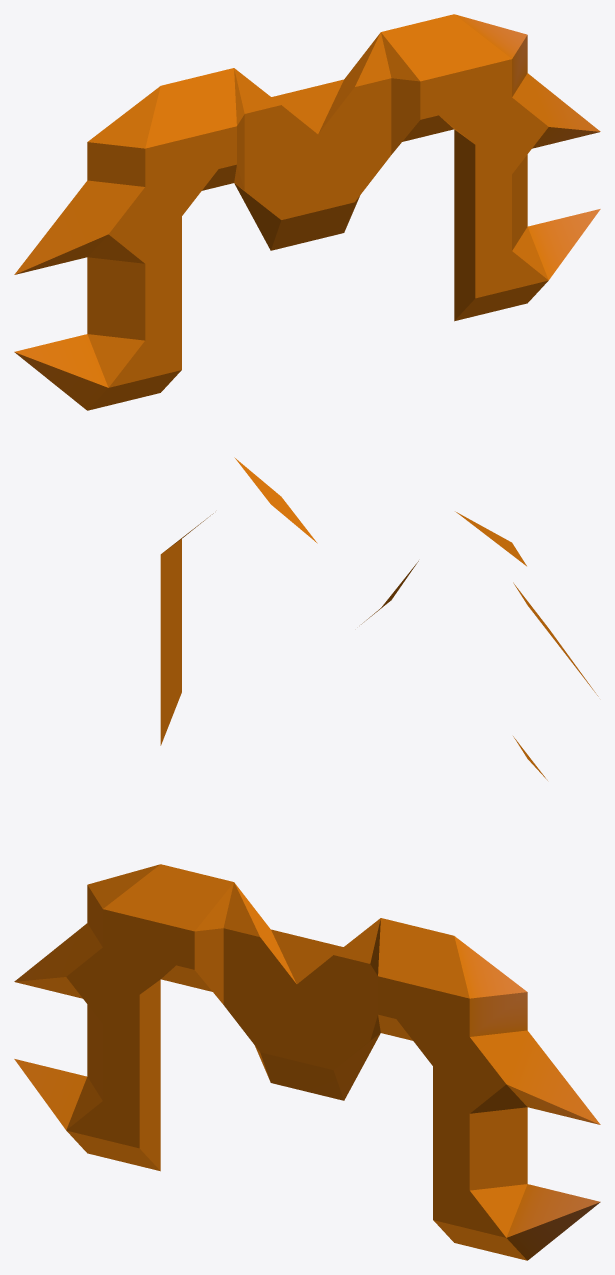
File: boss_01.glb
3 renders of one model, top to bottom at view 1: azimuth 30°, elevation 25°; view 2: azimuth 150°, elevation 25°; view 3: azimuth 330°, elevation 25°, orthographic.
Visible parts, largest first — view 1: body; view 2: body; view 3: body.
Part boxes in pixels (bbox=[...]): body: bbox=[14, 14, 600, 410]; body: bbox=[160, 457, 598, 780]; body: bbox=[14, 864, 600, 1260].
Bounding box in the file's own units: 0.7357 × 0.3678 × 0.046.
